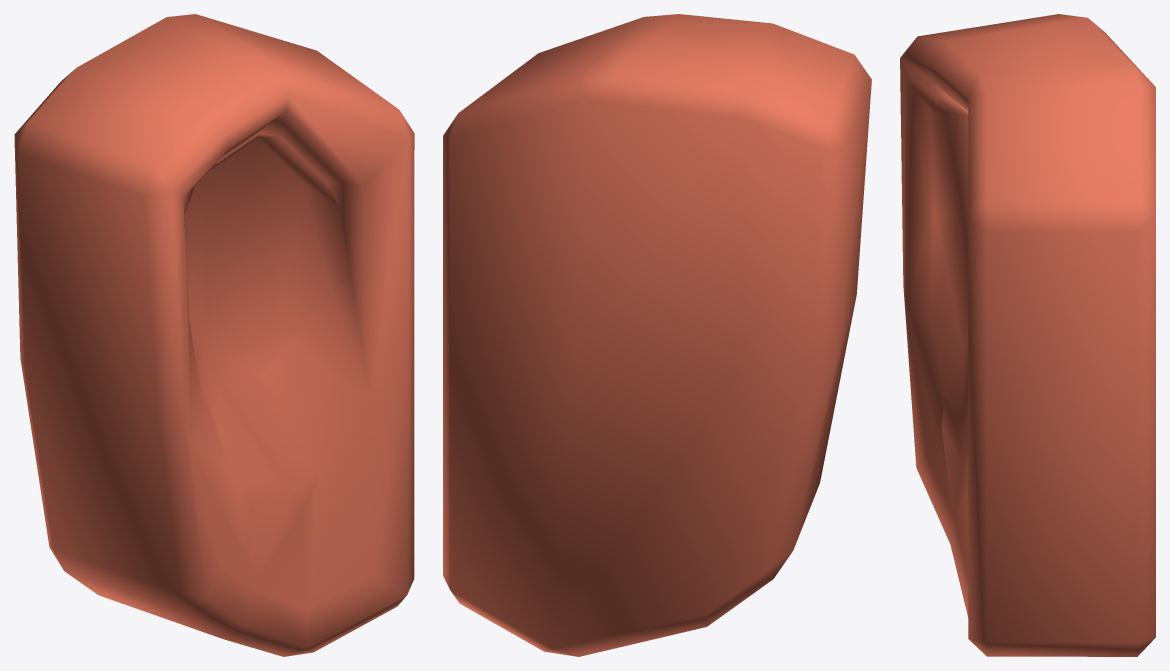
The model's file is ear2.fbx.
3 renders of one model, left to right at view 1: azimuth 30°, elevation 25°; view 2: azimuth 150°, elevation 25°; view 3: azimuth 270°, elevation 25°, orthographic. The views are drawn at different scales.
Parts seen in each view (by area): view 1: ear2; view 2: ear2; view 3: ear2.
Part boxes in pixels (x1=…): ear2: x1=14, y1=14, x2=414, y2=656; ear2: x1=443, y1=14, x2=871, y2=656; ear2: x1=900, y1=14, x2=1155, y2=656.
Size of the model in its own units: 157 by 248 by 104.
